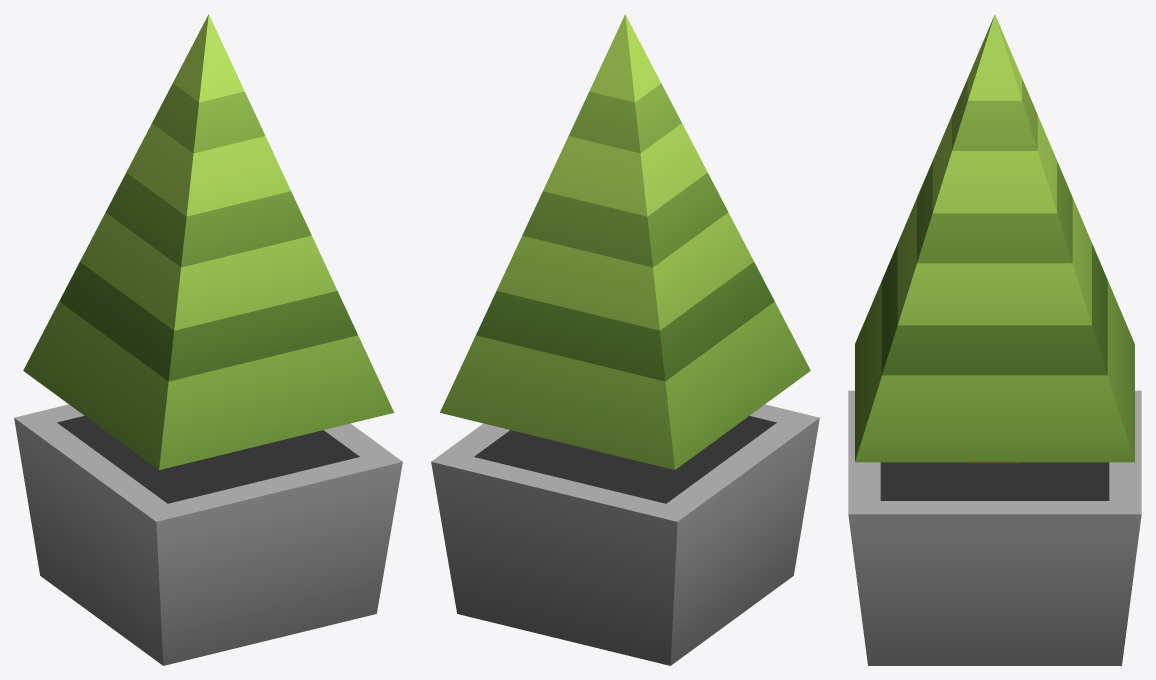
Rendered from flower 2.fbx.
3 renders of one model, left to right at view 1: azimuth 30°, elevation 25°; view 2: azimuth 150°, elevation 25°; view 3: azimuth 270°, elevation 25°, orthographic. The views are drawn at different scales.
Visible parts, largest first — view 1: flower_2; view 2: flower_2; view 3: flower_2.
Boxes of the visible parts, left/top/right/bottom form: flower_2: left=14, top=14, right=402, bottom=665; flower_2: left=431, top=14, right=819, bottom=665; flower_2: left=848, top=14, right=1141, bottom=665.
Size of the model in its own units: 65.48 by 147 by 65.48.
1 material, 1 textured.
